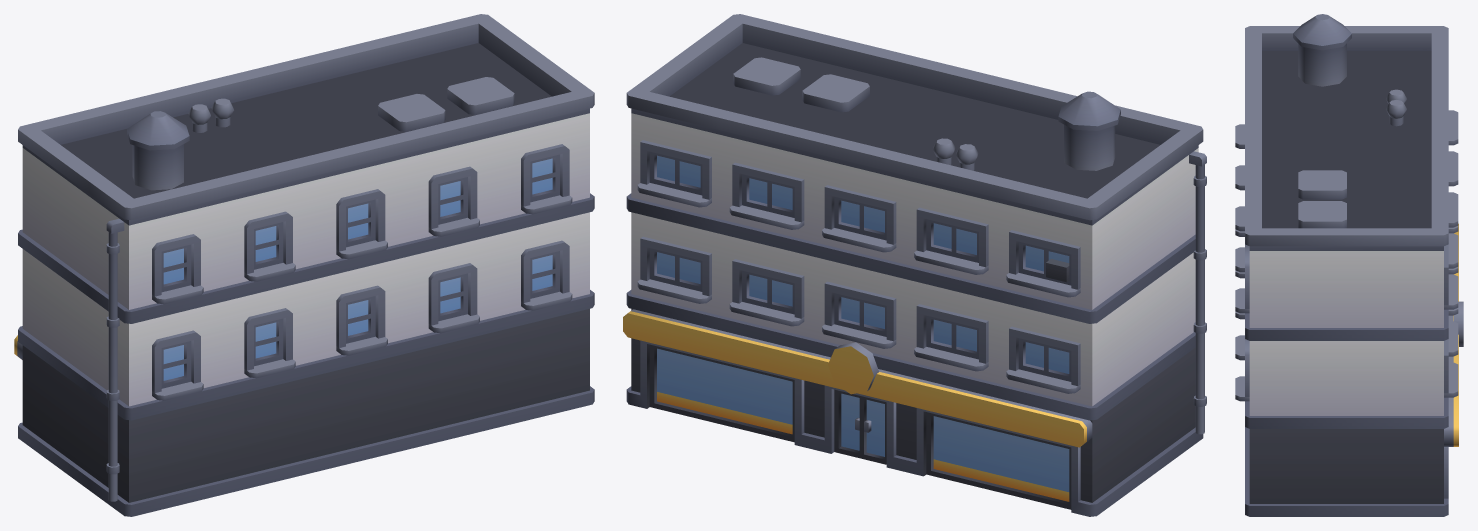
Rendered from building-k.glb.
3 renders of one model, left to right at view 1: azimuth 30°, elevation 25°; view 2: azimuth 150°, elevation 25°; view 3: azimuth 270°, elevation 25°, orthographic. The views are drawn at different scales.
Parts seen in each view (by area): view 1: building-k; view 2: building-k; view 3: building-k.
Boxes of the visible parts, x1,y1,x2,y2 form: building-k: (14, 14, 594, 516); building-k: (623, 14, 1206, 516); building-k: (1235, 14, 1463, 516).
Size of the model in its own units: 2.08 by 1.47 by 0.9419.
1 material, 1 textured.
